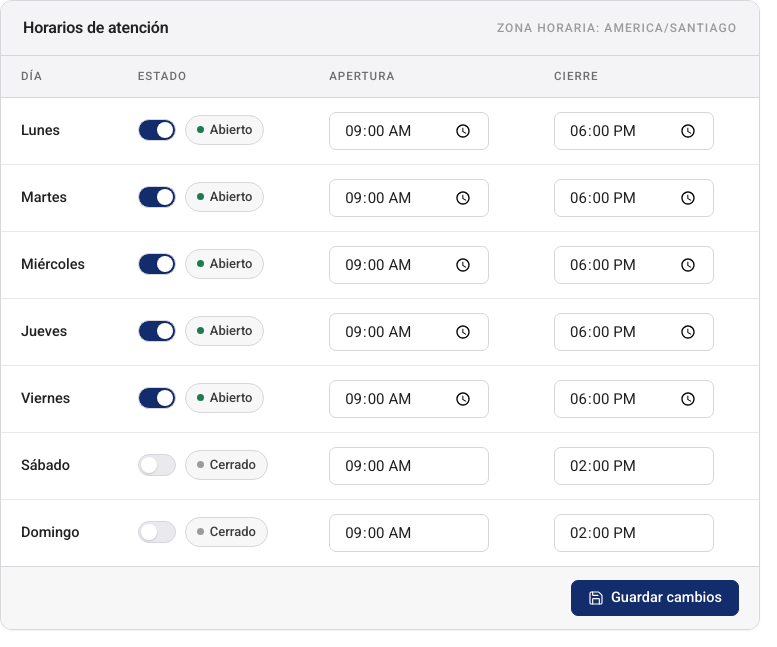
Test case: ScheduleEditor — UI & Validation Integration › toggles a closed day to open, enabling its hour inputs
Expected: the time field named "Sábado Hora Apertura" is disabled, [329, 447, 489, 485]
Note: Click toggle button for Sábado
Click the button named "Toggle Sábado": coordinates (157, 465) [138, 454, 176, 476]
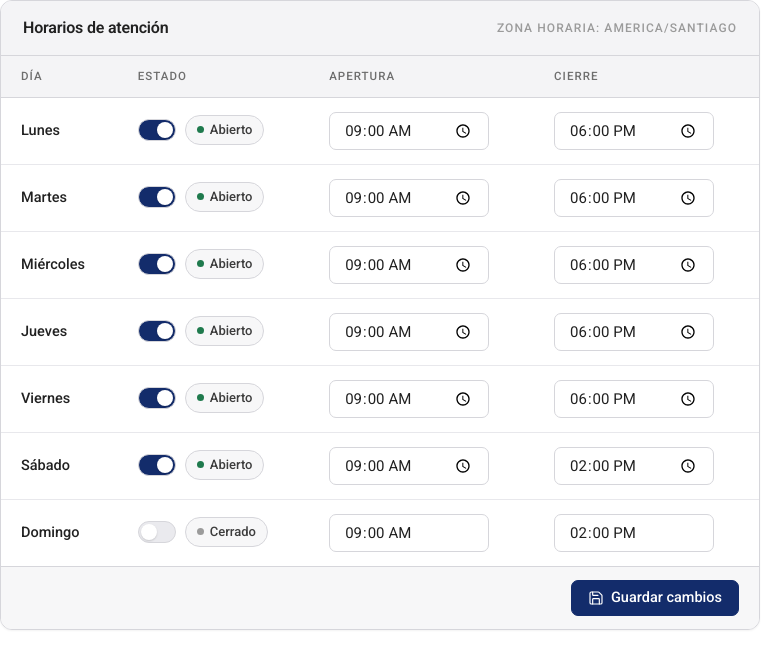
Expected: the time field named "Sábado Hora Apertura" is enabled, [329, 447, 489, 485]
